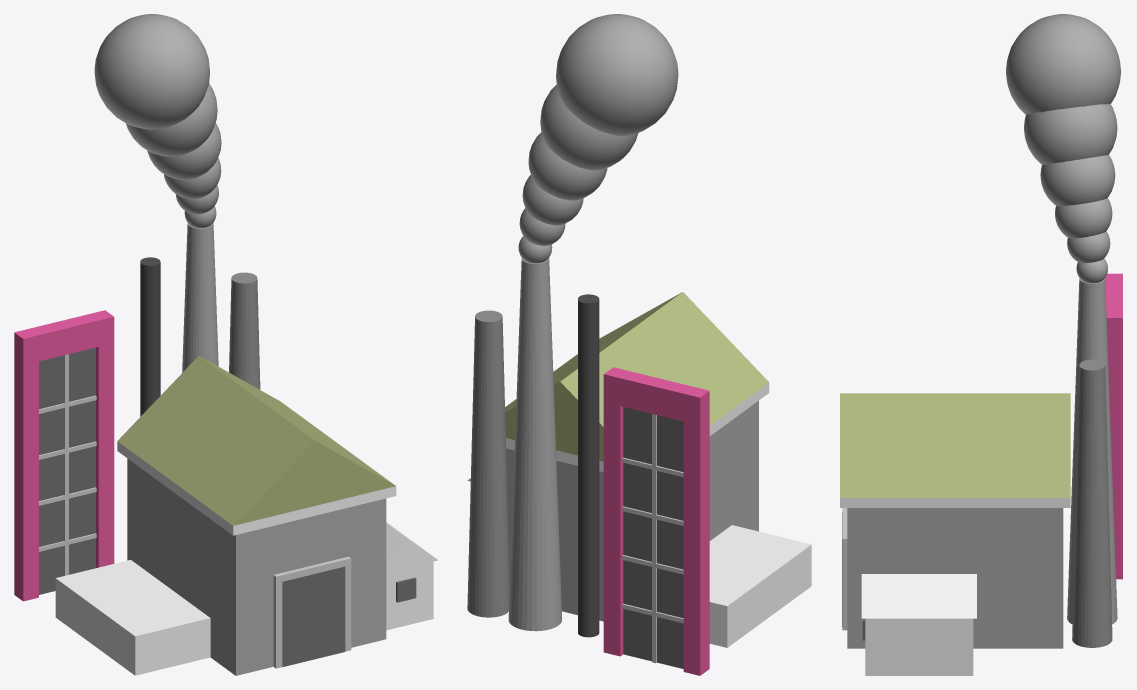
File: Fabrica.glb
3 views of the same model, side by side, from view 1: azimuth 30°, elevation 25°; view 2: azimuth 150°, elevation 25°; view 3: azimuth 270°, elevation 25° (orthographic). The views are drawn at different scales.
Visible parts, largest first — view 1: MainBuilding, MainBuildingRoof, LeftExtension, PinkArchWindowPane, SmokeBall_5, PinkArchLeftCol, DoorPanel, PinkArchRightCol, ChimneyMiddle, ChimneyRight, ChimneyLeft, PinkArchTopBeam (+9 smaller); view 2: ChimneyMiddle, MainBuildingRoof, PinkArchWindowPane, SmokeBall_5, ChimneyRight, MainBuilding, LeftExtension, PinkArchLeftCol, ChimneyLeft, PinkArchRightCol, SmokeBall_4, PinkArchTopBeam (+6 smaller); view 3: MainBuildingRoof, MainBuilding, ChimneyRight, SmokeBall_5, RightExtension, RightExtensionRoof, ChimneyMiddle, SmokeBall_4, SmokeBall_3, PinkArchRightCol, MainBuildingTrim, SmokeBall_2 (+4 smaller).
Boxes of the visible parts, x1,y1,x2,y2 form: MainBuilding: (127,458,386,675); MainBuildingRoof: (117,356,395,525); LeftExtension: (55,560,210,675); PinkArchWindowPane: (39,347,95,594); SmokeBall_5: (94,14,209,129); PinkArchLeftCol: (14,328,38,601); DoorPanel: (282,566,345,667); PinkArchRightCol: (90,310,114,567); ChimneyMiddle: (182,223,218,372); ChimneyRight: (229,272,260,389); ChimneyLeft: (140,257,160,416); PinkArchTopBeam: (15,310,114,364); ChimneyMiddle: (508,258,562,631); MainBuildingRoof: (505,292,769,461); PinkArchWindowPane: (623,407,683,668); SmokeBall_5: (556,14,678,135); ChimneyRight: (467,310,509,617); MainBuilding: (506,400,758,621); LeftExtension: (709,525,811,647); PinkArchLeftCol: (683,386,709,675); ChimneyLeft: (578,294,599,637); PinkArchRightCol: (603,371,624,656); SmokeBall_4: (540,85,638,170); PinkArchTopBeam: (604,367,709,425); MainBuildingRoof: (840,393,1070,497); MainBuilding: (847,508,1063,648); ChimneyRight: (1072,359,1112,647); SmokeBall_5: (1006,14,1120,114); RightExtension: (865,618,973,675); RightExtensionRoof: (861,574,976,618); ChimneyMiddle: (1067,278,1117,624); SmokeBall_4: (1024,103,1117,164); SmokeBall_3: (1040,154,1115,206); PinkArchRightCol: (1106,310,1122,579); MainBuildingTrim: (840,498,1070,507); SmokeBall_2: (1055,198,1112,238).
Bounding box in the file's own units: 4.68 × 8.7 × 3.93.
